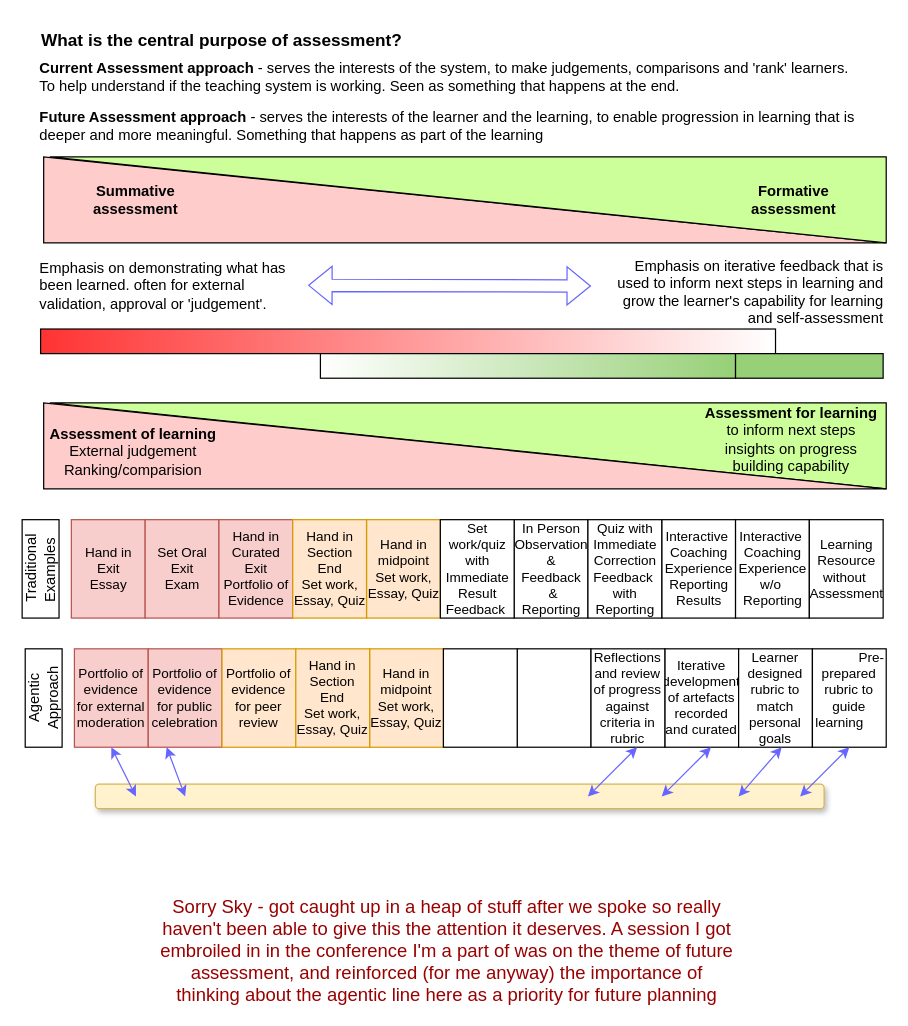
This 908x1026 diagram has some shape labels left out. Each missing label, with the centre of its shape:
"Assessment for" goes at point (527, 365).
"Assessment Of Learning" goes at point (407, 341).
"Learning" goes at point (808, 365).
"Personal ePortfolio" goes at point (460, 797).
